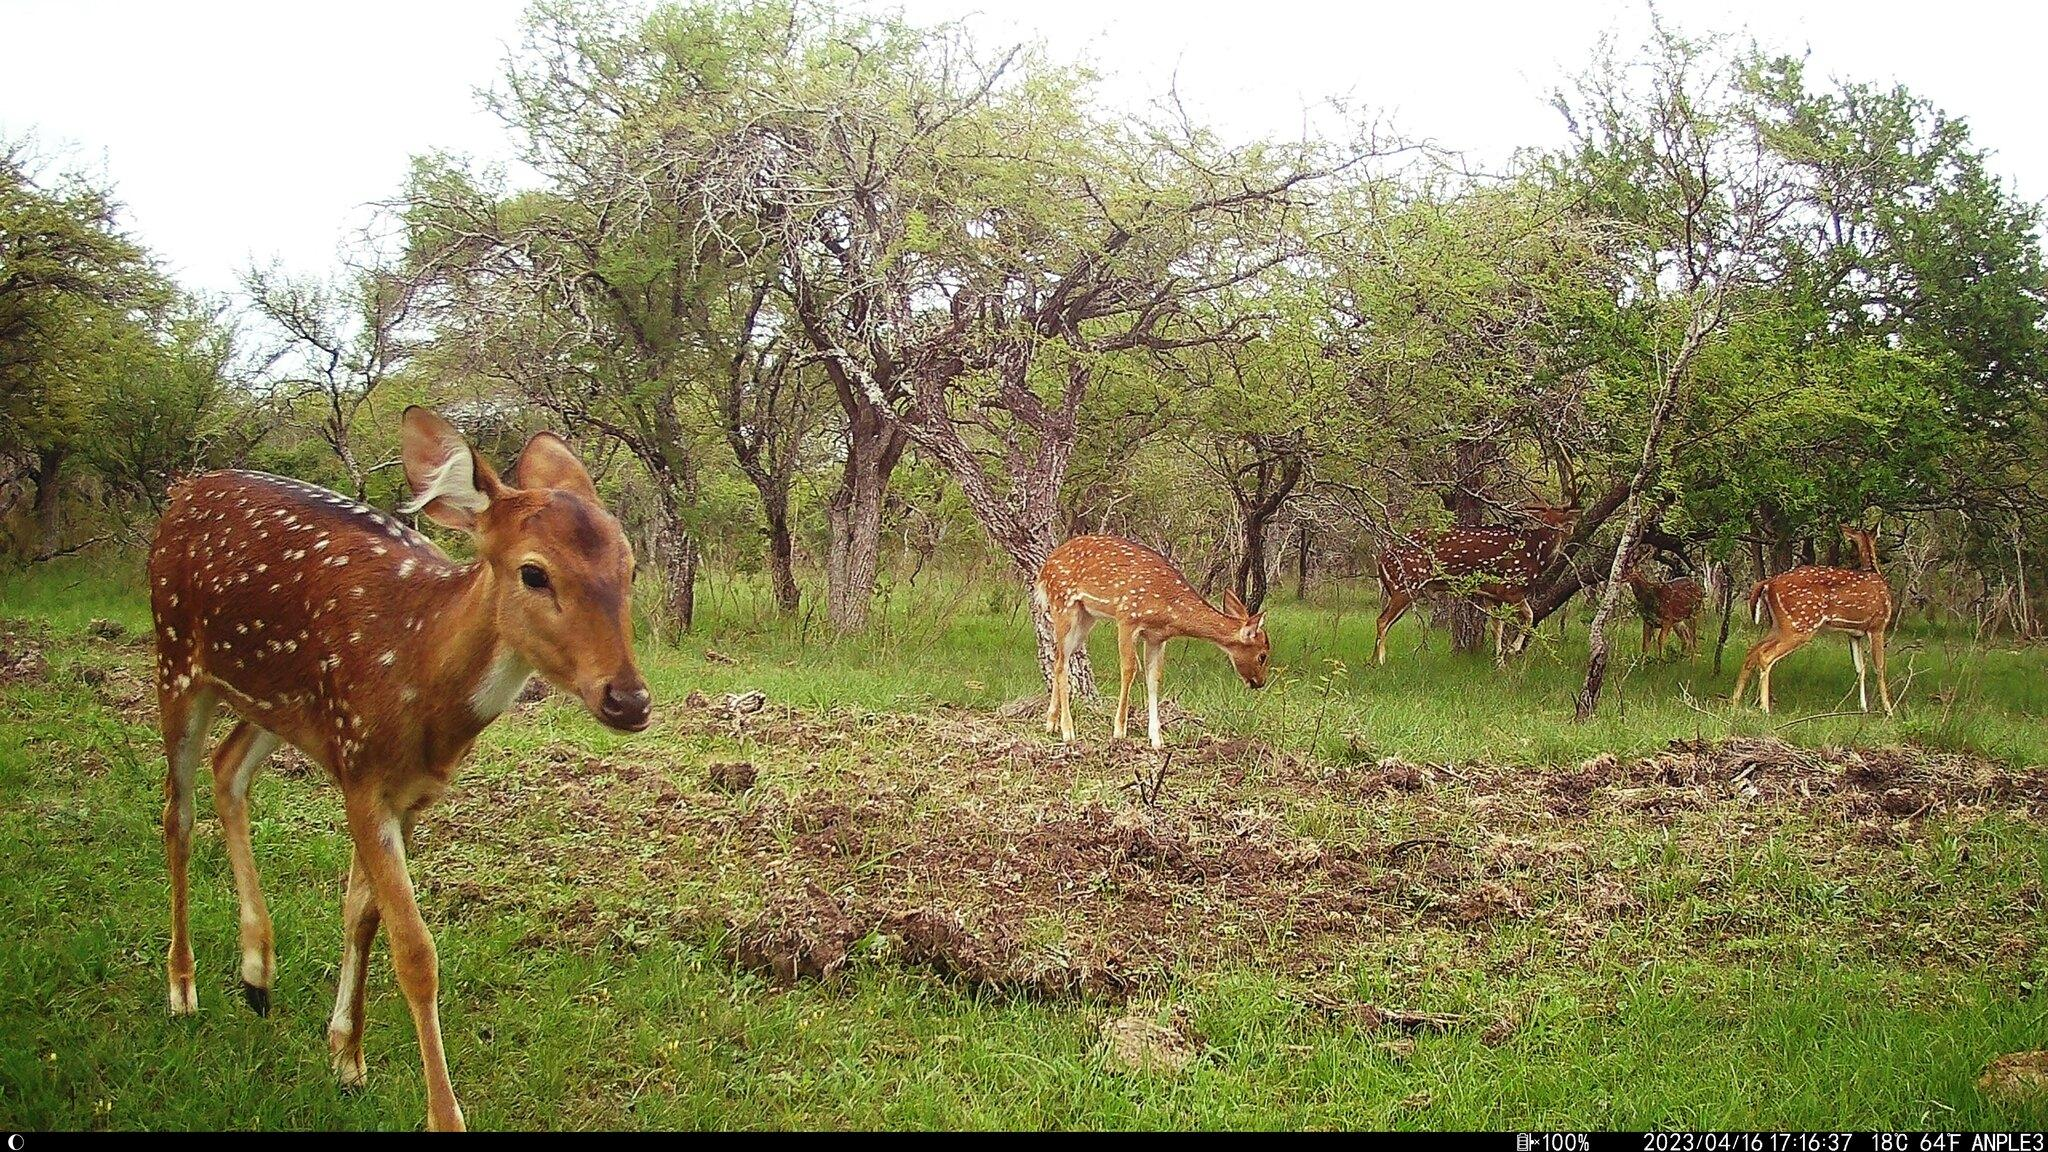Deer: (148, 405, 653, 1129), (1032, 535, 1270, 748), (1371, 506, 1573, 664), (1730, 520, 1893, 712)
